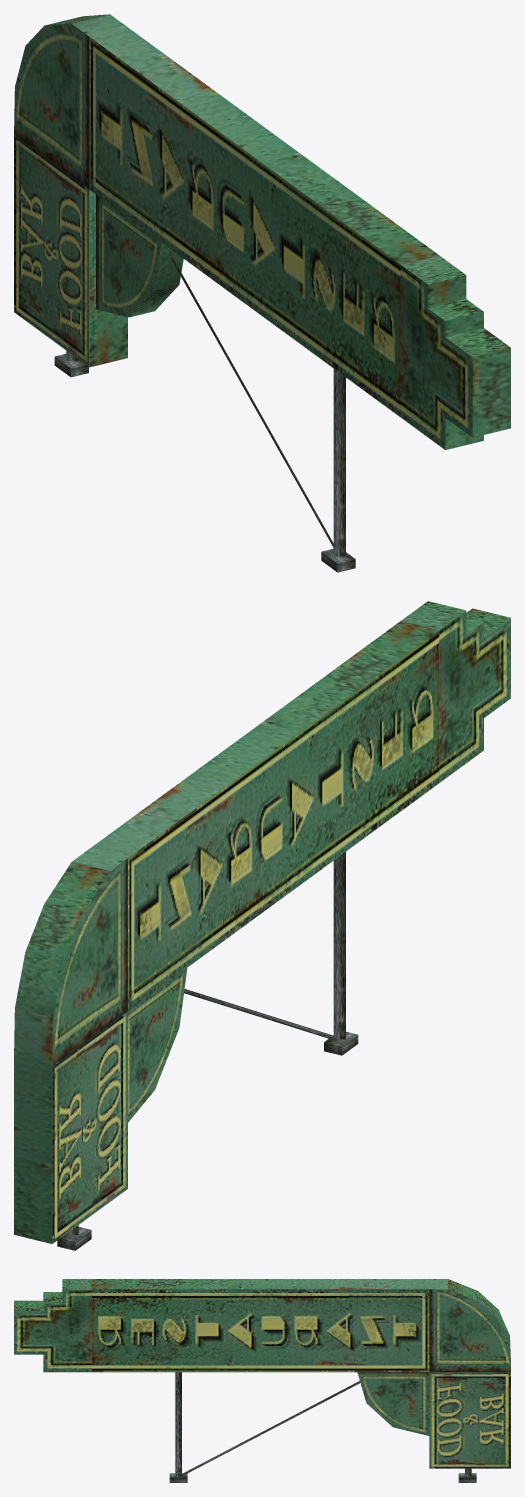
Rendered from restaurant_restaurant.fbx.
3 views of the same model, one above another, from view 1: azimuth 30°, elevation 25°; view 2: azimuth 150°, elevation 25°; view 3: azimuth 270°, elevation 25° (orthographic). The views are drawn at different scales.
Visible parts, largest first — view 1: mesh_0; view 2: mesh_0; view 3: mesh_0.
Boxes of the visible parts, bbox=[...] form: mesh_0: bbox=[14, 14, 510, 572]; mesh_0: bbox=[14, 601, 510, 1250]; mesh_0: bbox=[14, 1279, 510, 1482].
Size of the model in its own units: 24.95 by 225 by 515.
Materials: 1 (1 with a texture image).
